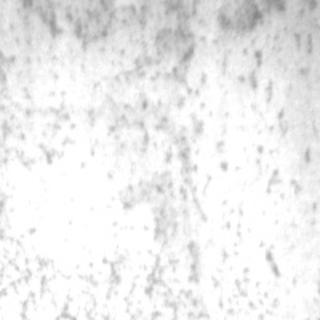pitted_surface: (0, 24, 286, 318), (211, 0, 315, 200), (16, 0, 204, 68)
